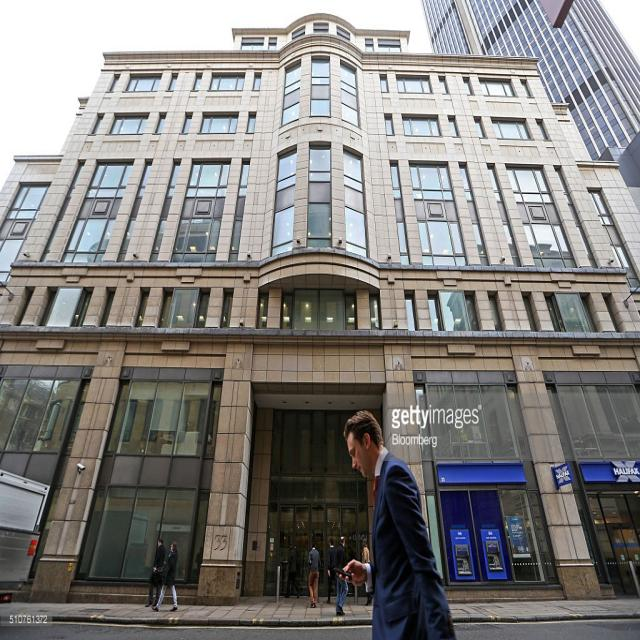body: (338, 407, 457, 640), (150, 540, 179, 614), (143, 536, 168, 609), (332, 534, 350, 617), (282, 540, 302, 600), (306, 539, 322, 609), (325, 537, 337, 605), (193, 539, 204, 581), (360, 537, 370, 564)
